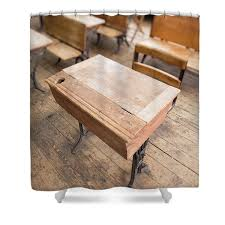desk: (45, 54, 181, 185)
